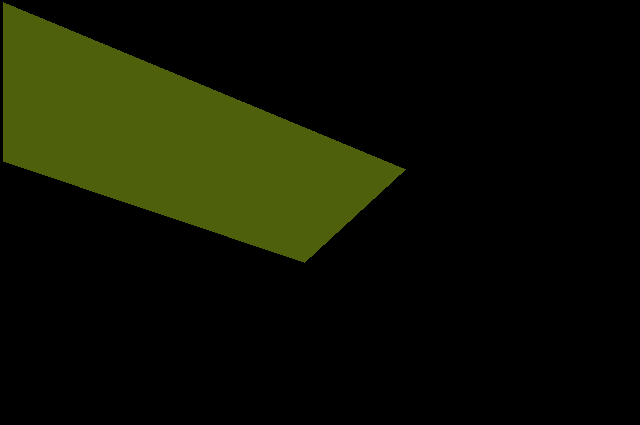Train: (3, 2, 406, 263)
